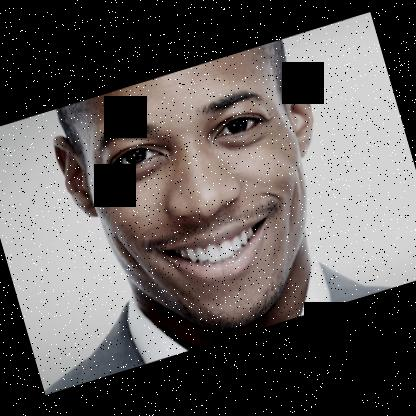Male: (45, 37, 365, 365)
